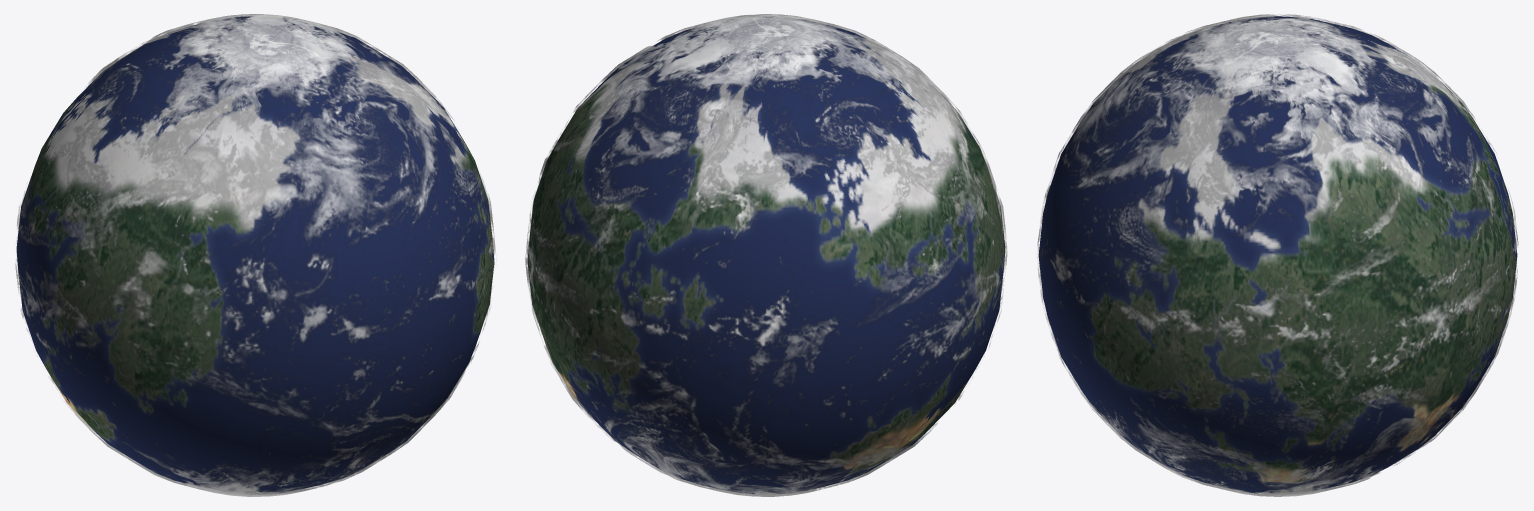
The model's file is earthlike.glb.
3 renders of one model, left to right at view 1: azimuth 30°, elevation 25°; view 2: azimuth 150°, elevation 25°; view 3: azimuth 270°, elevation 25°, orthographic.
Parts seen in each view (by area): view 1: Geography, cloud; view 2: Geography, cloud; view 3: Geography, cloud.
Part boxes in pixels (<box>): Geography: <box>16,16,494,494</box>; cloud: <box>15,14,495,496</box>; Geography: <box>527,17,1005,494</box>; cloud: <box>525,14,1007,496</box>; Geography: <box>1038,16,1517,494</box>; cloud: <box>1037,14,1518,496</box>.
Size of what is drawn, in the model's own units: 5.25 by 5.25 by 5.25.
Materials: 2 (2 with a texture image).
